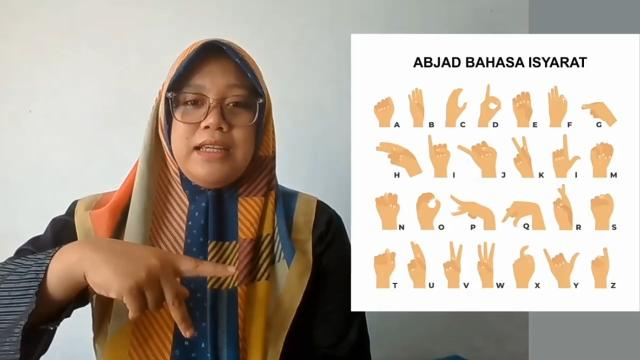P: (84, 232, 238, 344)
